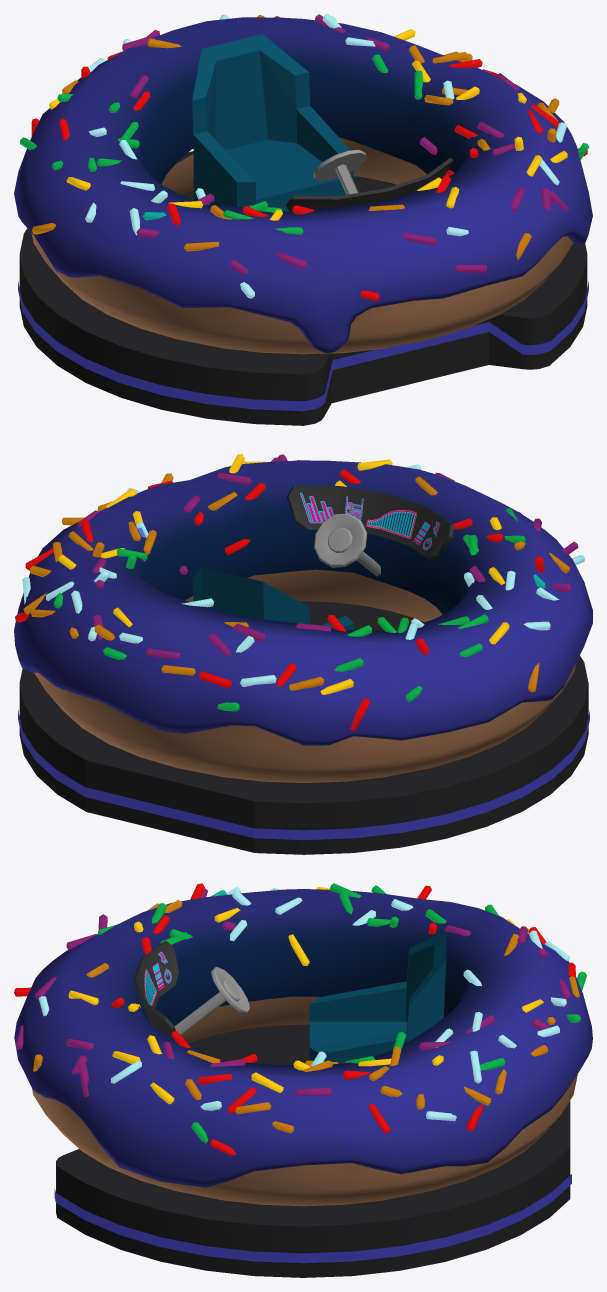
Rendered from vehicle.donut.blue.gltf.
The picture shows the model from 3 angles, top to bottom: view 1: azimuth 30°, elevation 25°; view 2: azimuth 150°, elevation 25°; view 3: azimuth 270°, elevation 25°; orthographic projection.
Visible parts, largest first — view 1: donut.blue.icing, donut.blue.base.001, donut.blue.seat.001, donut.blue, donut.blue.sprinkles, speedster.neons.005, speedster.display.004, donut.blue.steering.002; view 2: donut.blue.icing, donut.blue.base.001, donut.blue, donut.blue.sprinkles, speedster.display.004, speedster.neons.005, donut.blue.seat.001, donut.blue.steering.002; view 3: donut.blue.icing, donut.blue.base.001, donut.blue.sprinkles, donut.blue, donut.blue.seat.001, speedster.neons.005, speedster.display.004, donut.blue.steering.002.
Boxes of the visible parts, left/top/right/bottom form: donut.blue.icing: left=14, top=17, right=592, bottom=353; donut.blue.base.001: left=19, top=151, right=587, bottom=425; donut.blue.seat.001: left=192, top=34, right=353, bottom=211; donut.blue: left=31, top=137, right=573, bottom=354; donut.blue.sprinkles: left=20, top=14, right=589, bottom=300; speedster.neons.005: left=18, top=281, right=588, bottom=411; speedster.display.004: left=286, top=158, right=453, bottom=211; donut.blue.steering.002: left=313, top=149, right=366, bottom=194; donut.blue.icing: left=14, top=460, right=592, bottom=745; donut.blue.base.001: left=19, top=601, right=588, bottom=854; donut.blue: left=34, top=569, right=576, bottom=782; donut.blue.sprinkles: left=15, top=454, right=584, bottom=730; speedster.display.004: left=286, top=486, right=454, bottom=560; speedster.neons.005: left=18, top=710, right=589, bottom=840; donut.blue.seat.001: left=192, top=567, right=354, bottom=630; donut.blue.steering.002: left=314, top=513, right=380, bottom=576; donut.blue.icing: left=14, top=889, right=592, bottom=1187; donut.blue.base.001: left=56, top=1024, right=570, bottom=1277; donut.blue.sprinkles: left=14, top=883, right=586, bottom=1155; donut.blue: left=31, top=996, right=577, bottom=1206; donut.blue.seat.001: left=309, top=931, right=446, bottom=1063; speedster.neons.005: left=54, top=1174, right=571, bottom=1263; speedster.display.004: left=133, top=940, right=178, bottom=1037; donut.blue.steering.002: left=174, top=967, right=249, bottom=1035.
Size of what is drawn, in the model's own units: 2.04 by 0.8245 by 2.04.
Materials: 5 (5 with a texture image).
